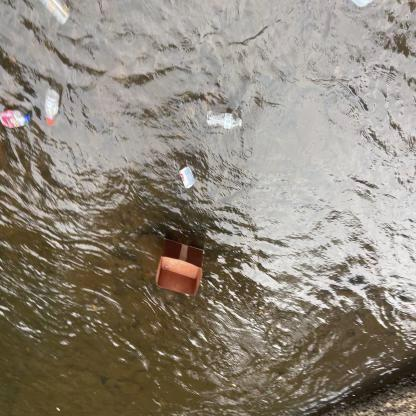Metal: (174, 158, 203, 193)
Plastic: (204, 104, 247, 135), (31, 0, 74, 30), (40, 85, 66, 131), (0, 104, 35, 135)
